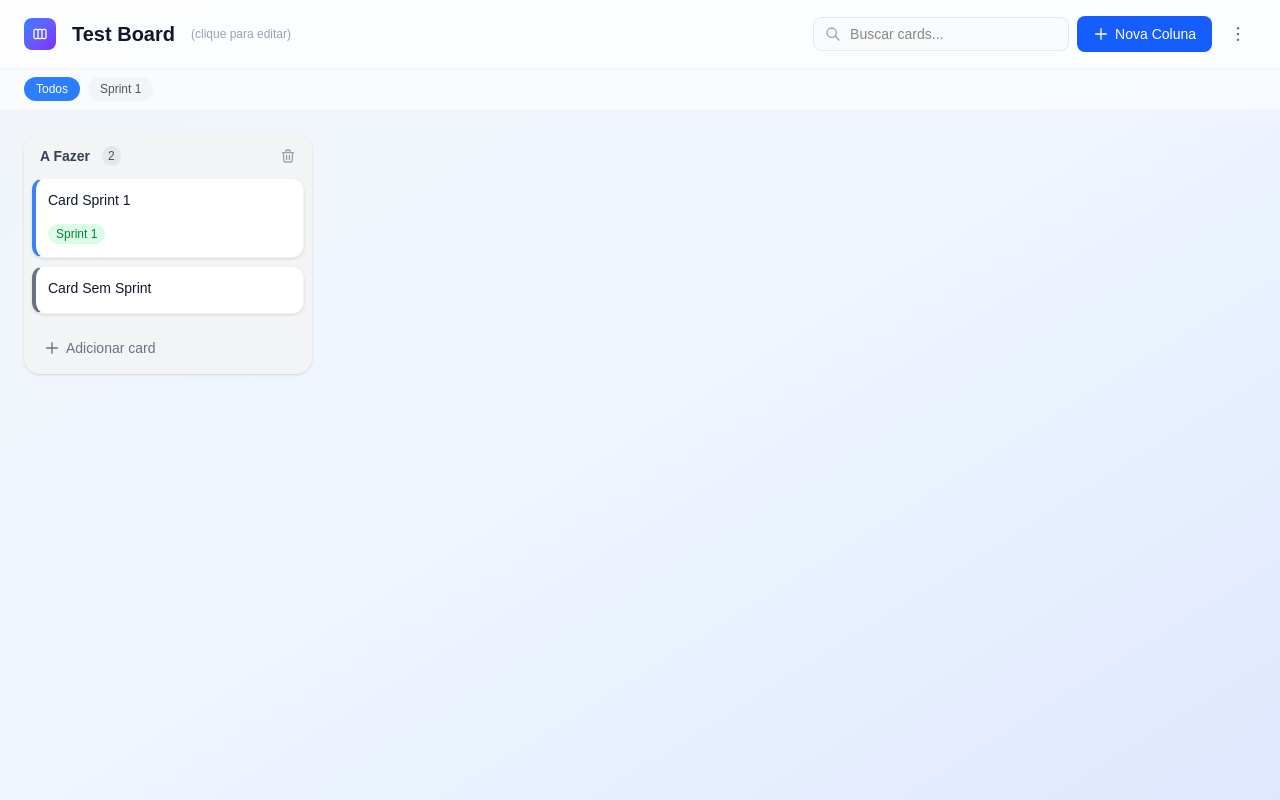
Test: KanbanBoard extended › hides cards from other sprints when sprint filter active
Note: Click the SprintFilterBar chip (button), not the SprintBadge in the card (span)
Click the button "Sprint 1" at (121, 89), box [88,77,153,101]
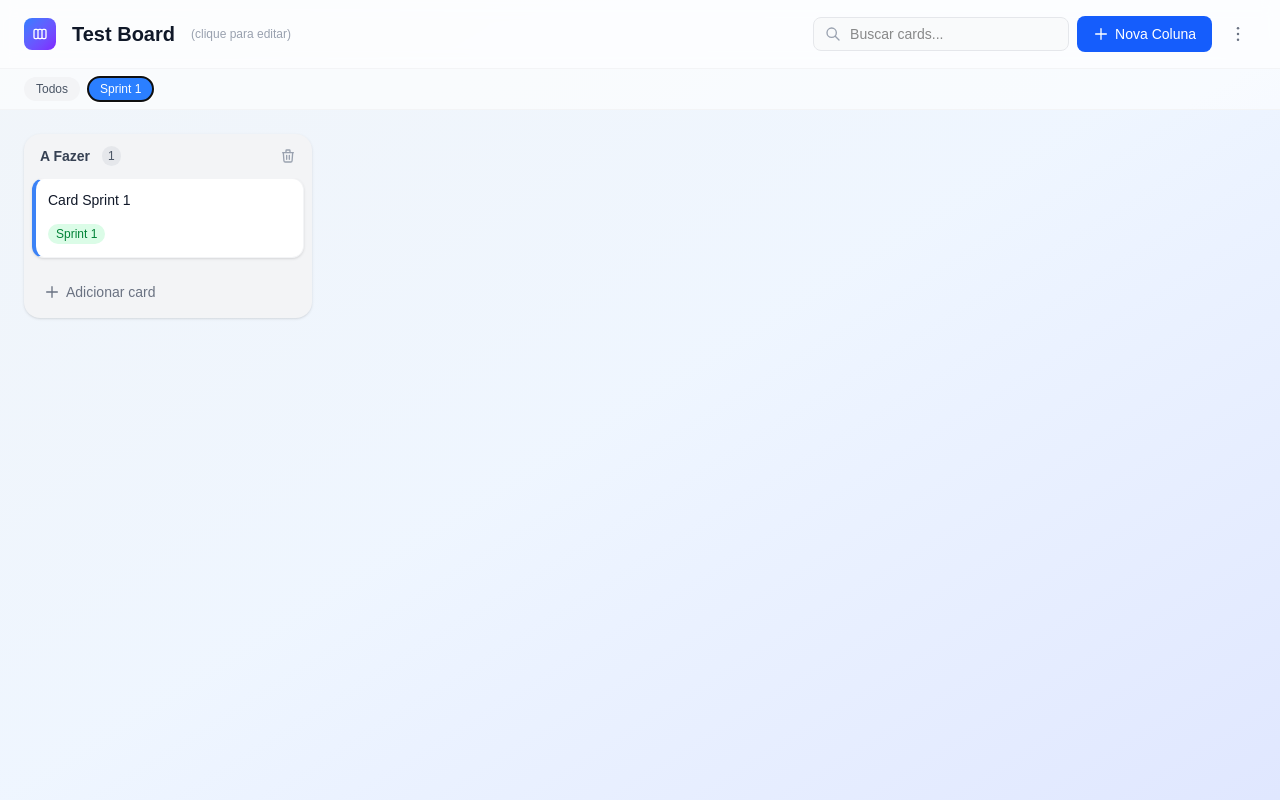
Expected: the text "Card Sprint 1" is shown, [48,192,130,208]
Now the text "Card Sem Sprint" is gone
